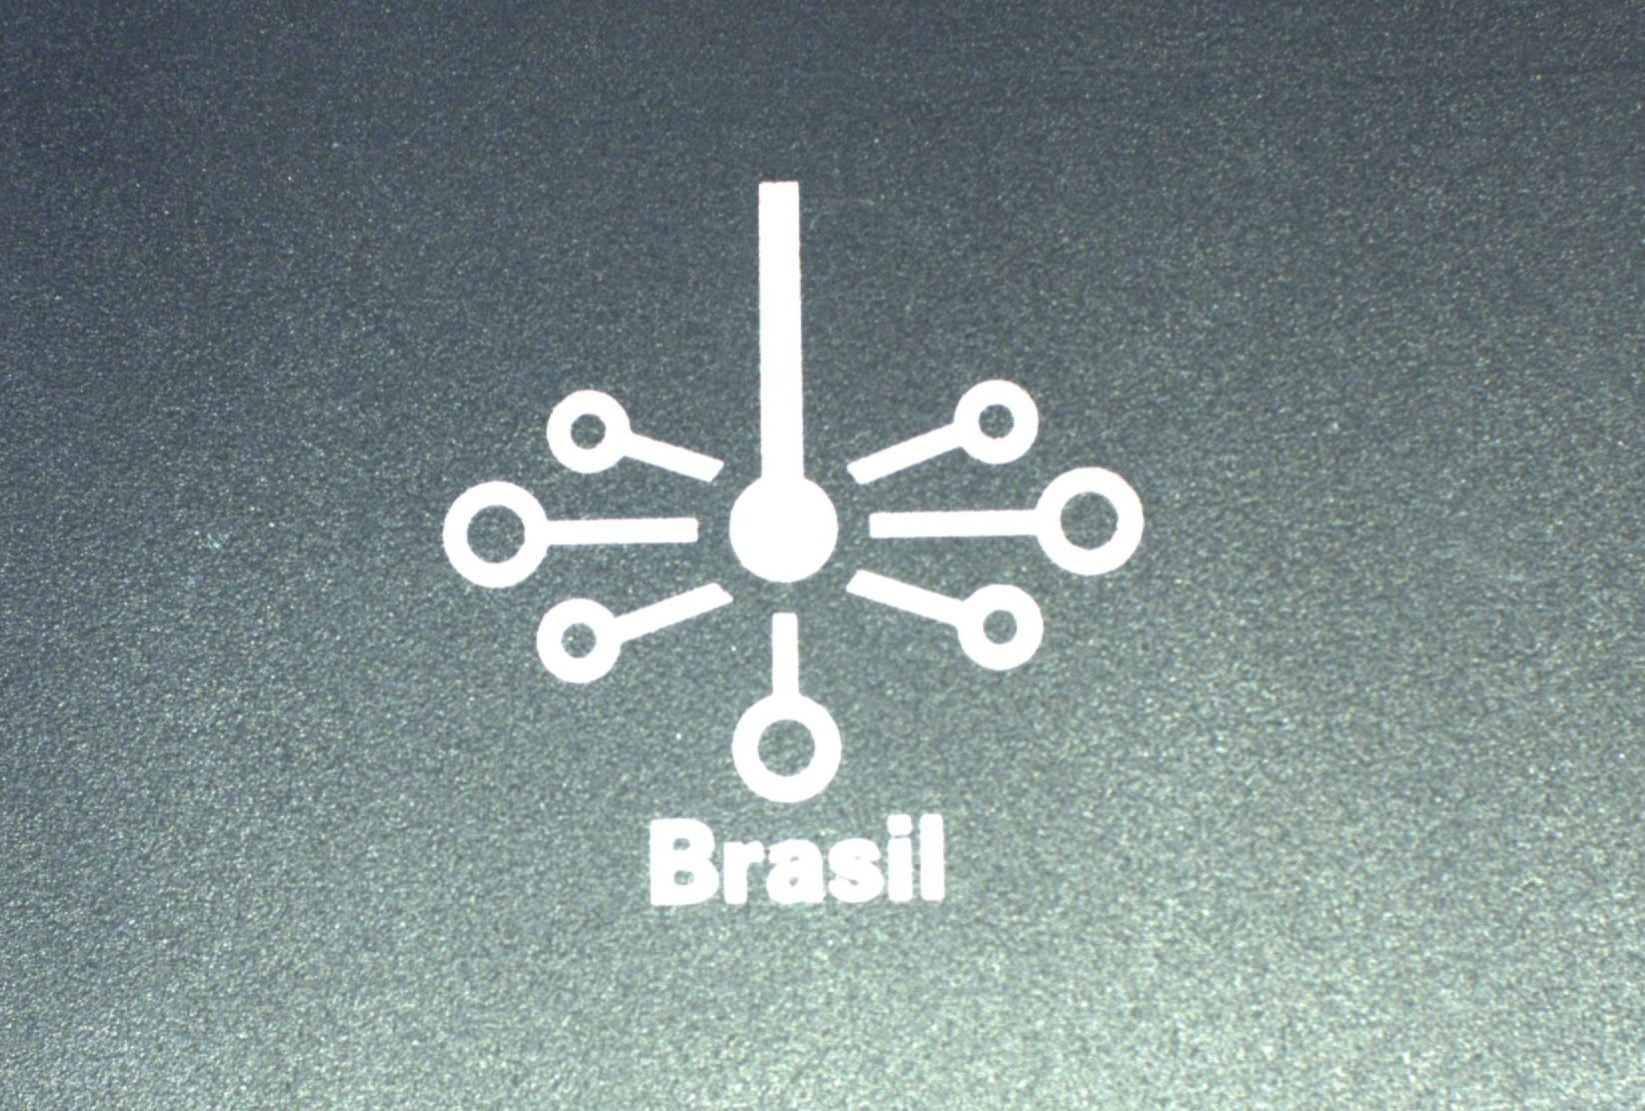BO_Brsail: (398, 180, 1157, 947)
